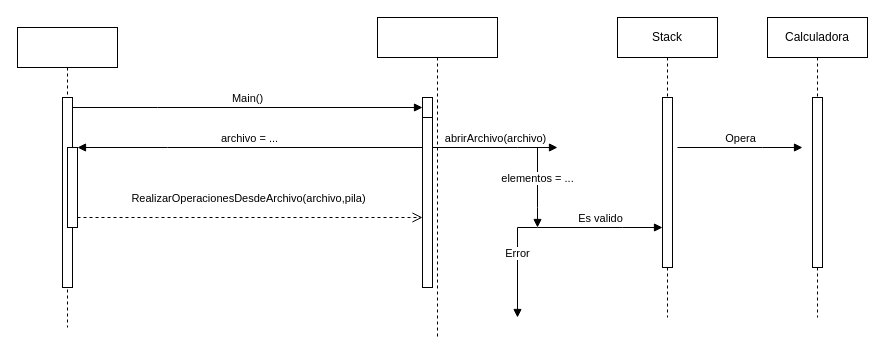
The diagram is 885 pixels wide and 355 high, and some of its shapes have lost their labels. Each missing label, with the centre of its shape:
"ManejadorArchivo" goes at pixel 437 177.
"Principal" goes at pixel 67 177.
